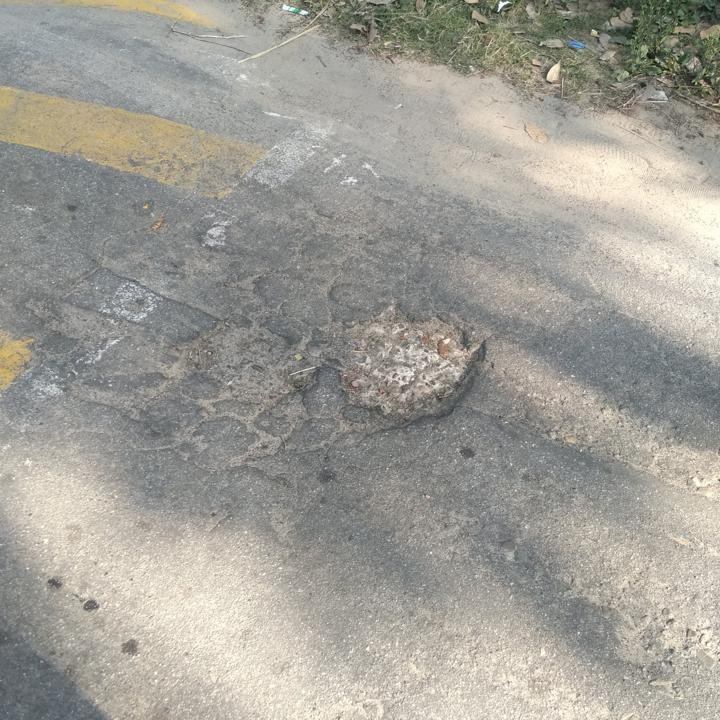pothole: (325, 302, 492, 432), (166, 315, 324, 410)
